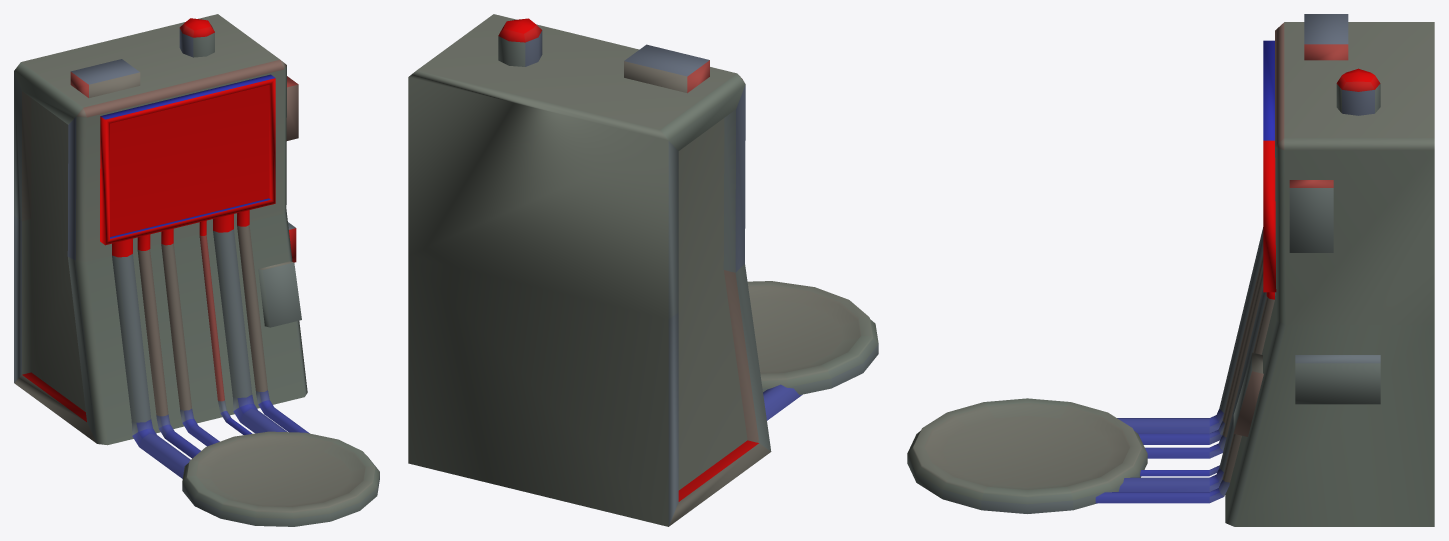
The model's file is WorkShop.fbx.
3 views of the same model, side by side, from view 1: azimuth 30°, elevation 25°; view 2: azimuth 150°, elevation 25°; view 3: azimuth 270°, elevation 25° (orthographic). The views are drawn at different scales.
Parts seen in each view (by area): view 1: Mesh; view 2: Mesh; view 3: Mesh.
Part boxes in pixels (<box>): Mesh: <box>14,14,379,526</box>; Mesh: <box>408,14,878,526</box>; Mesh: <box>907,14,1434,526</box>.
Size of the model in its own units: 107 by 160 by 180.
